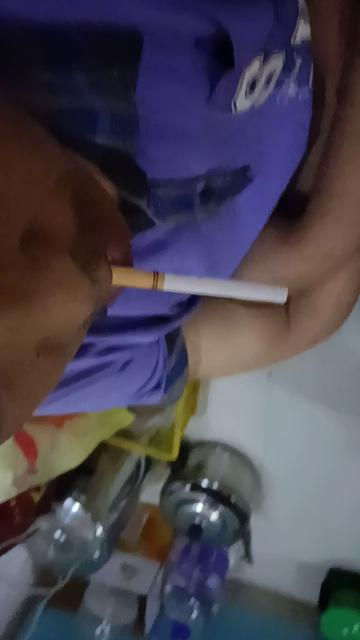Cigarette: (110, 266, 290, 308)
